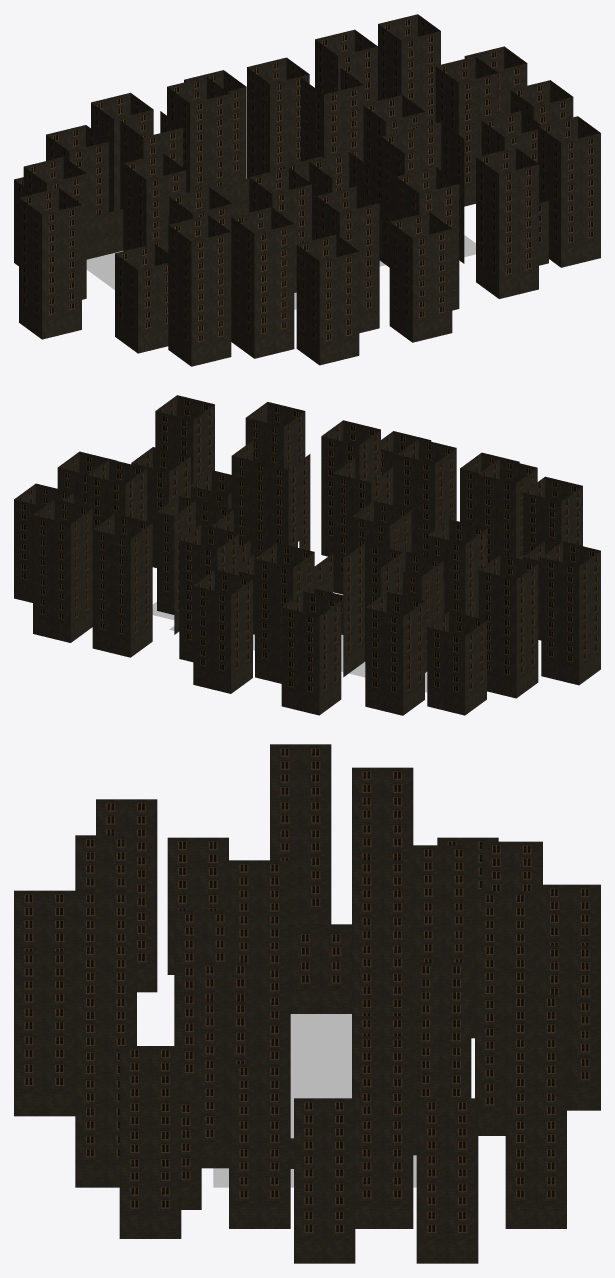
The model's file is map.fbx.
3 views of the same model, one above another, from view 1: azimuth 30°, elevation 25°; view 2: azimuth 150°, elevation 25°; view 3: azimuth 270°, elevation 25° (orthographic). The views are drawn at different scales.
Visible parts, largest first — view 1: BG, map; view 2: BG, map; view 3: BG, map.
Boxes of the visible parts, left/top/right/bottom form: BG: left=14, top=14, right=600, bottom=366; map: left=86, top=68, right=475, bottom=309; BG: left=14, top=395, right=600, bottom=715; map: left=152, top=440, right=487, bottom=692; BG: left=14, top=744, right=600, bottom=1263; map: left=174, top=845, right=474, bottom=1187.
Size of what is drawn, in the model's own units: 19520 by 4356 by 13756.
